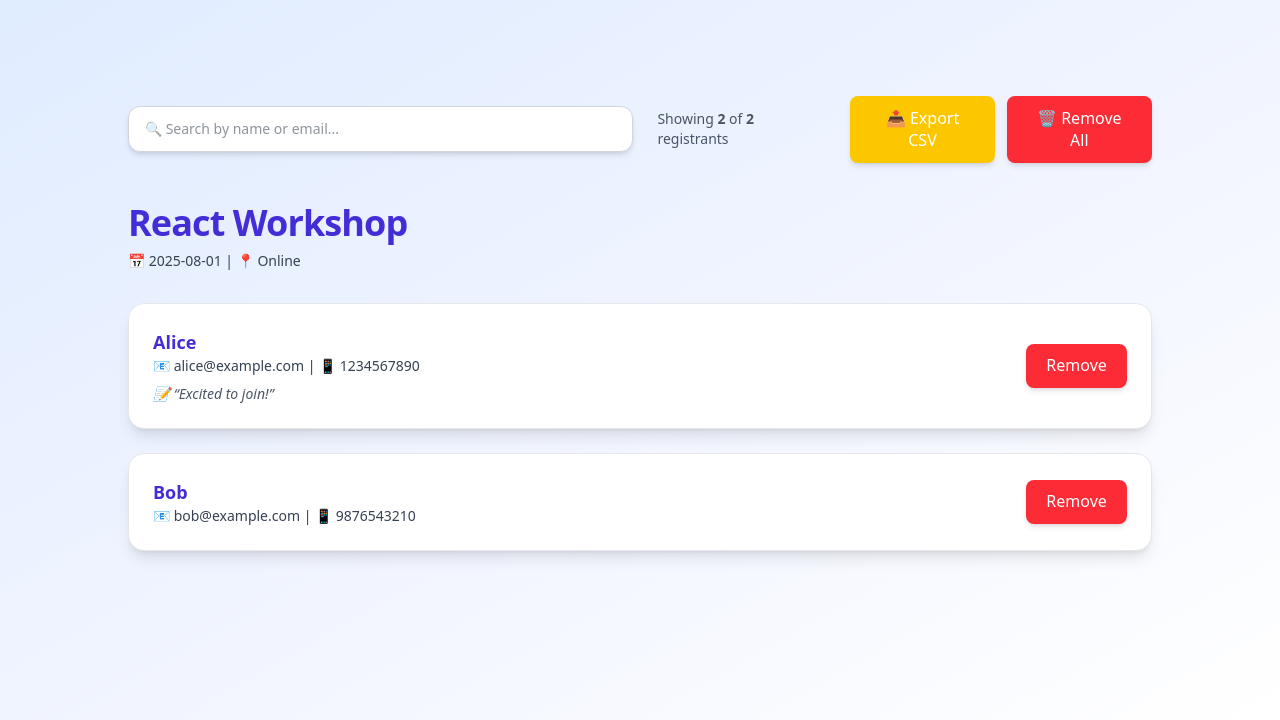
it: EventRegistrants › removes a single registrant
This screenshot has width=1280, height=720.
Expected: the text "Alice" is shown, [153,330,196,354]
Click the button with aria-label "remove registrant alice" at {"x": 1077, "y": 366}, box [1026,344,1127,388]
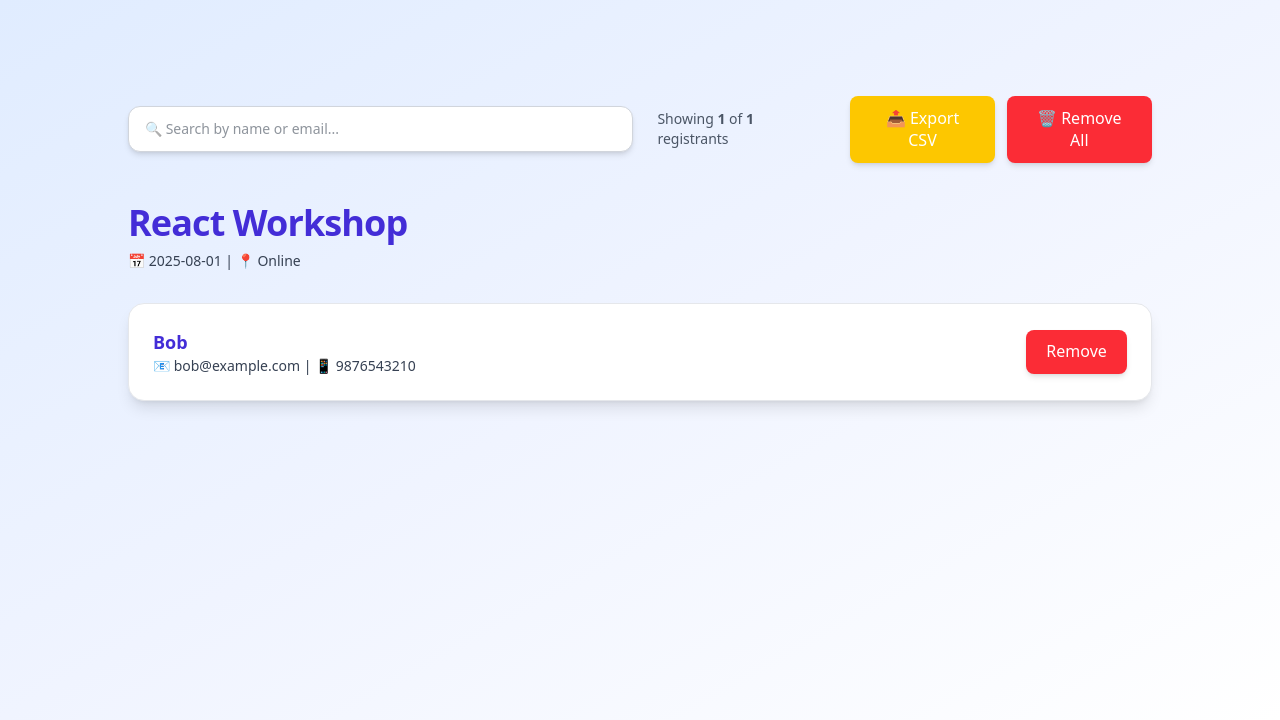
Expected: the text "Alice" is gone
